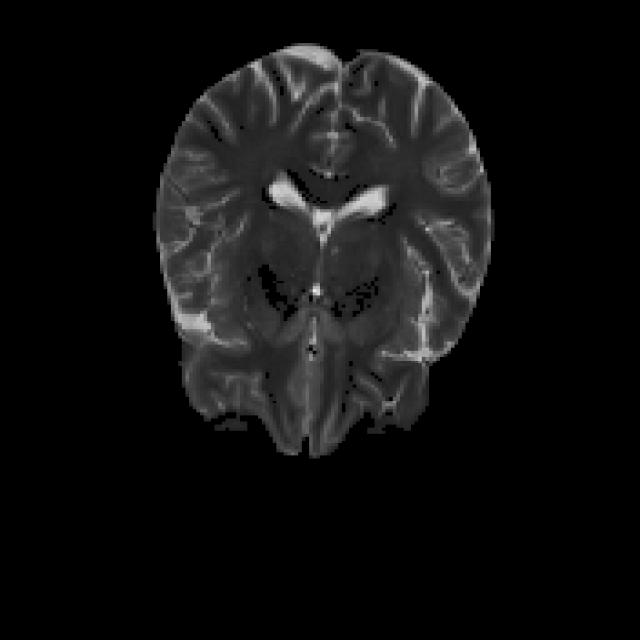parkinson: (152, 40, 494, 458)
